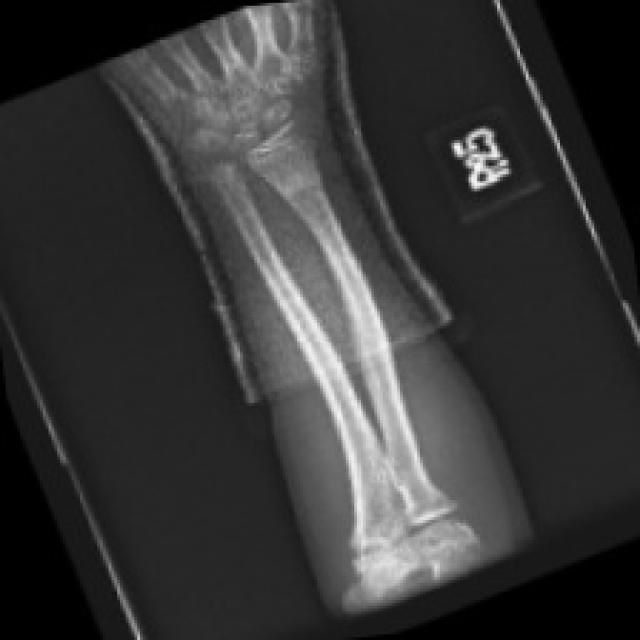fracture: (330, 502, 470, 593)
